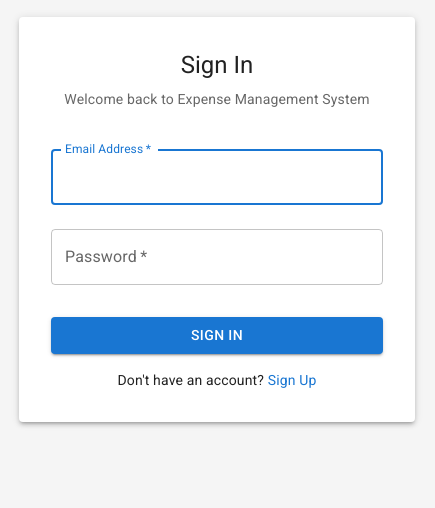
Test: LoginPage › should display error message on login failure
Type "wrong@example.com" into the field labelled "Email Address *".
click(217, 177); type("wrong@example.com")  # box [51,149,383,205]
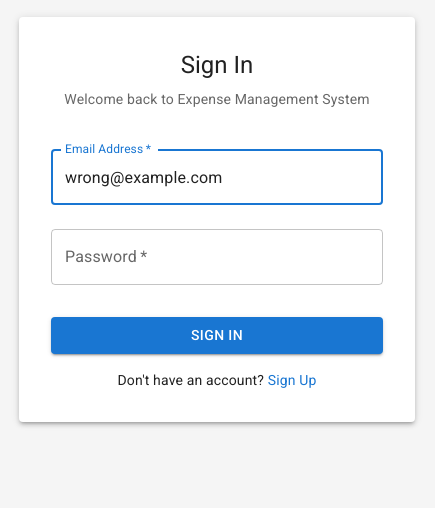
Type "wrongpassword" into the password field labelled "Password *".
click(217, 257); type("wrongpassword")  # box [51,229,383,285]
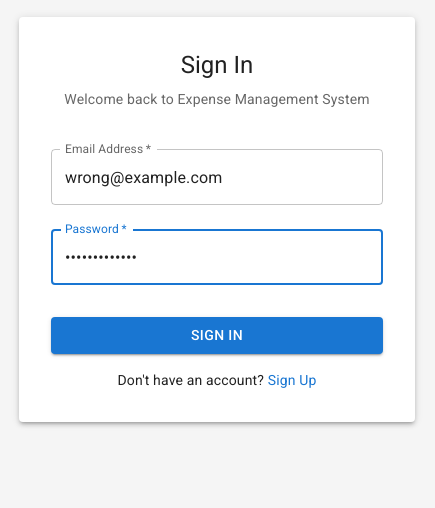
Click the button "Sign In".
click(217, 336)  # box [51,317,383,354]
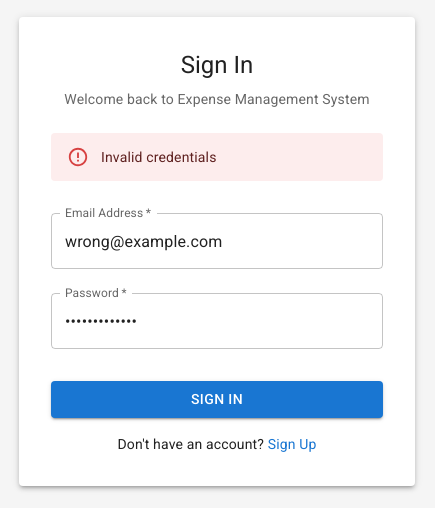
Check: the message "Invalid credentials" is shown, box [51,133,383,181]
Check: the message reads "Invalid credentials", box [101,149,216,165]
